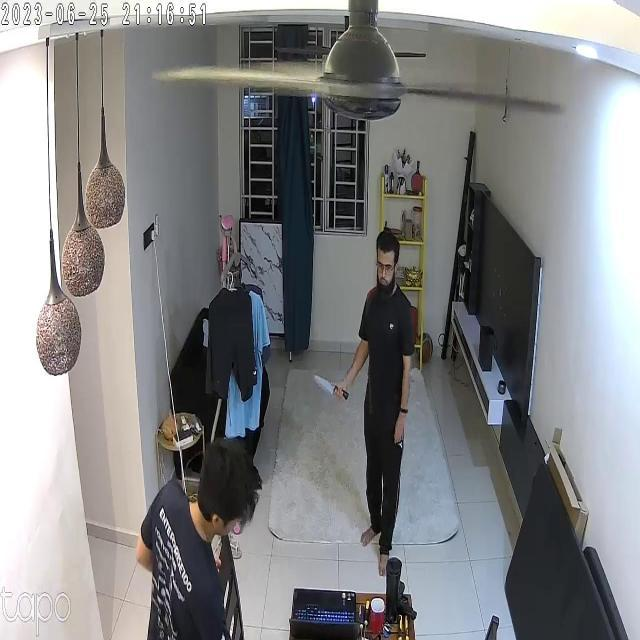Knife: (303, 358, 361, 414)
